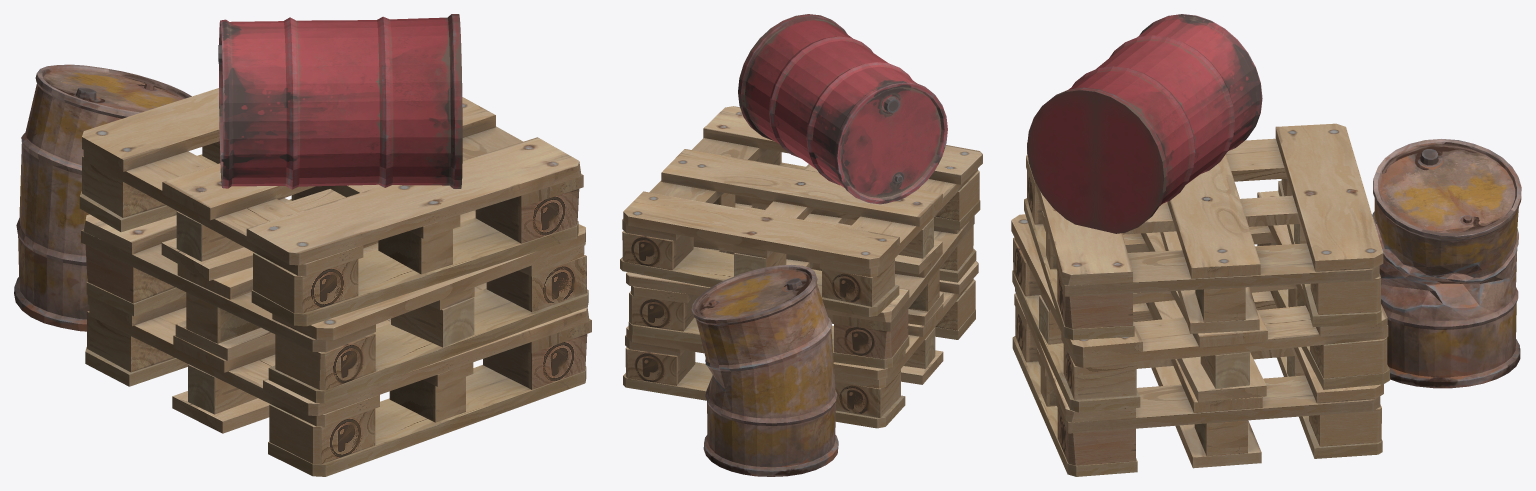
File: WarehouseManager_01.obj
The picture shows the model from 3 angles, left to right: view 1: azimuth 30°, elevation 25°; view 2: azimuth 150°, elevation 25°; view 3: azimuth 270°, elevation 25°; orthographic projection. The views are drawn at different scales.
Bounding box in the file's own units: 1.77 × 1.72 × 2.37.
Materials: 3 (3 with a texture image).
